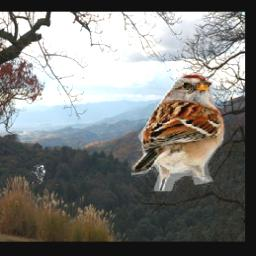Sparrow: (131, 73, 226, 191)
Woodpecker: (31, 164, 46, 184)
